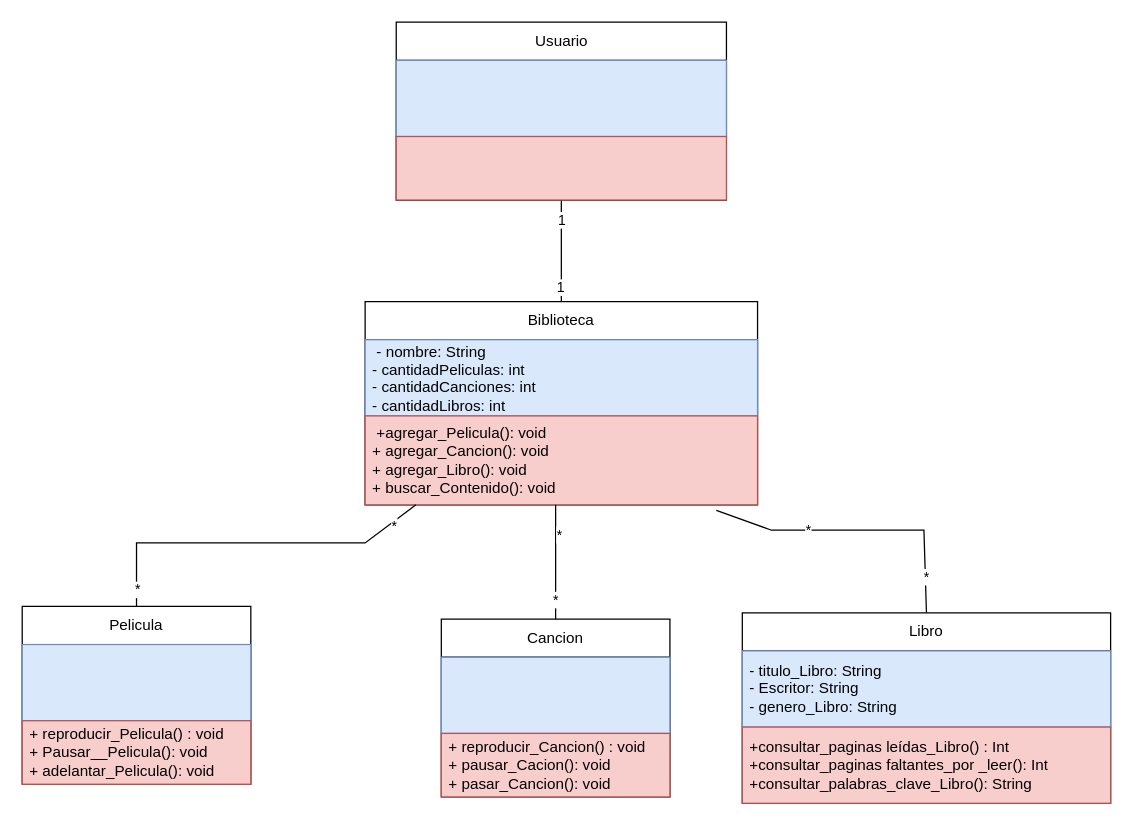
Some shapes in this 1133 by 826 pixel diagram are drawn without their labels. Here are the shapes that lost their labels. From the top down, the centre of each, then its label:
At [560,98]: "- ID_Usuario:Int - Username:String".
At [560,167]: "+ Registrar_usuario(): void + modificar_username( ): String".
At [136,682]: "- titulo_Pelicula: String - director: String - genero_Pelicula : String".
At [555,694]: "- Nombre: String - Duracion: String - genero: String".
